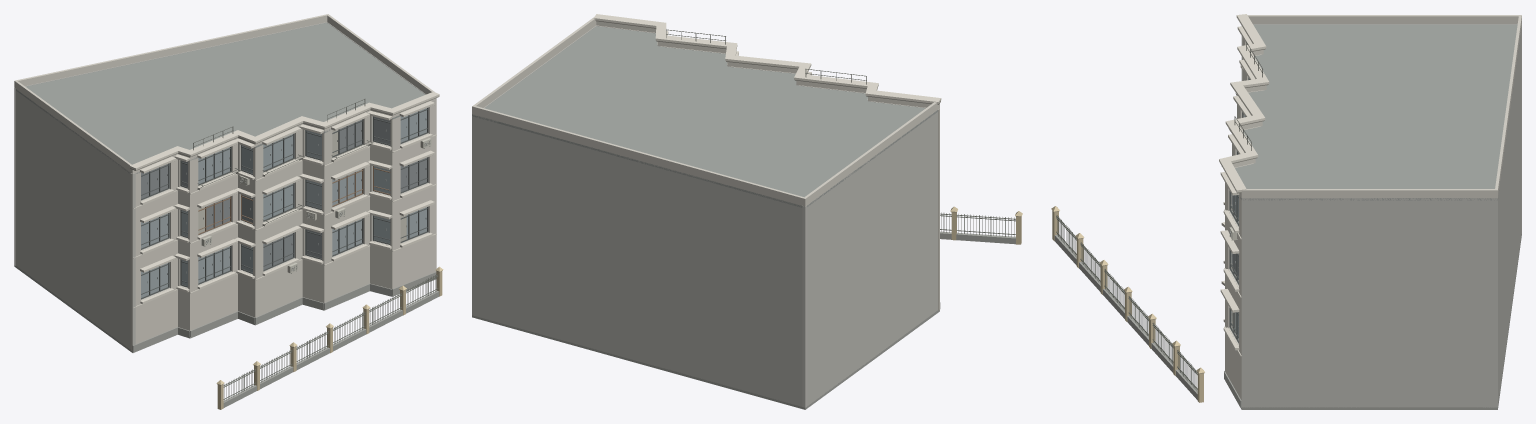
The model's file is xuhui-yueyang-lane-200-east-row-raw.glb.
3 views of the same model, side by side, from view 1: azimuth 30°, elevation 25°; view 2: azimuth 150°, elevation 25°; view 3: azimuth 270°, elevation 25° (orthographic). The views are drawn at different scales.
Visible parts, largest first — view 1: 岳阳路200弄住宅临街锯齿立面; view 2: 岳阳路200弄住宅临街锯齿立面; view 3: 岳阳路200弄住宅临街锯齿立面.
Boxes of the visible parts, <box> form: 岳阳路200弄住宅临街锯齿立面: <box>14,14,443,409</box>; 岳阳路200弄住宅临街锯齿立面: <box>472,14,1022,409</box>; 岳阳路200弄住宅临街锯齿立面: <box>1051,14,1521,409</box>.
Size of the model in its own units: 22.15 by 13.41 by 25.
